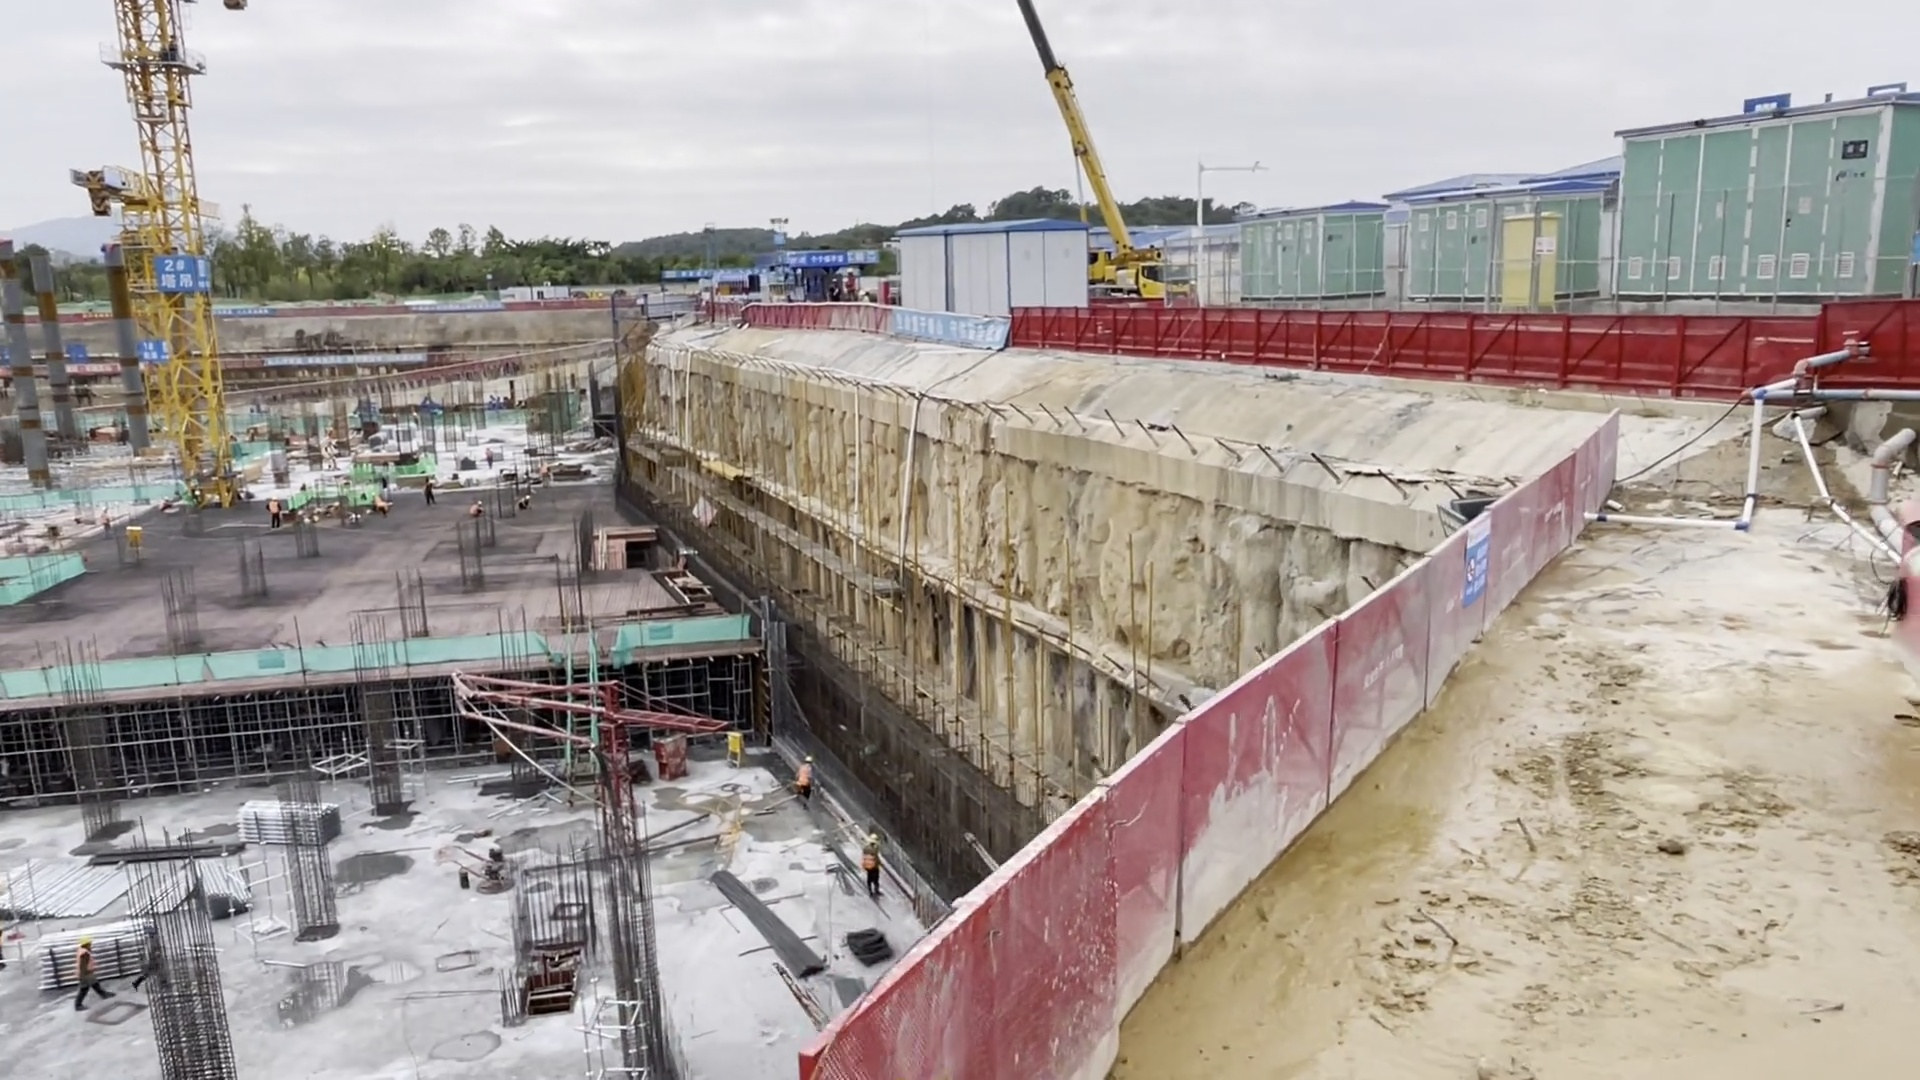slogan: (738, 291, 1048, 372)
